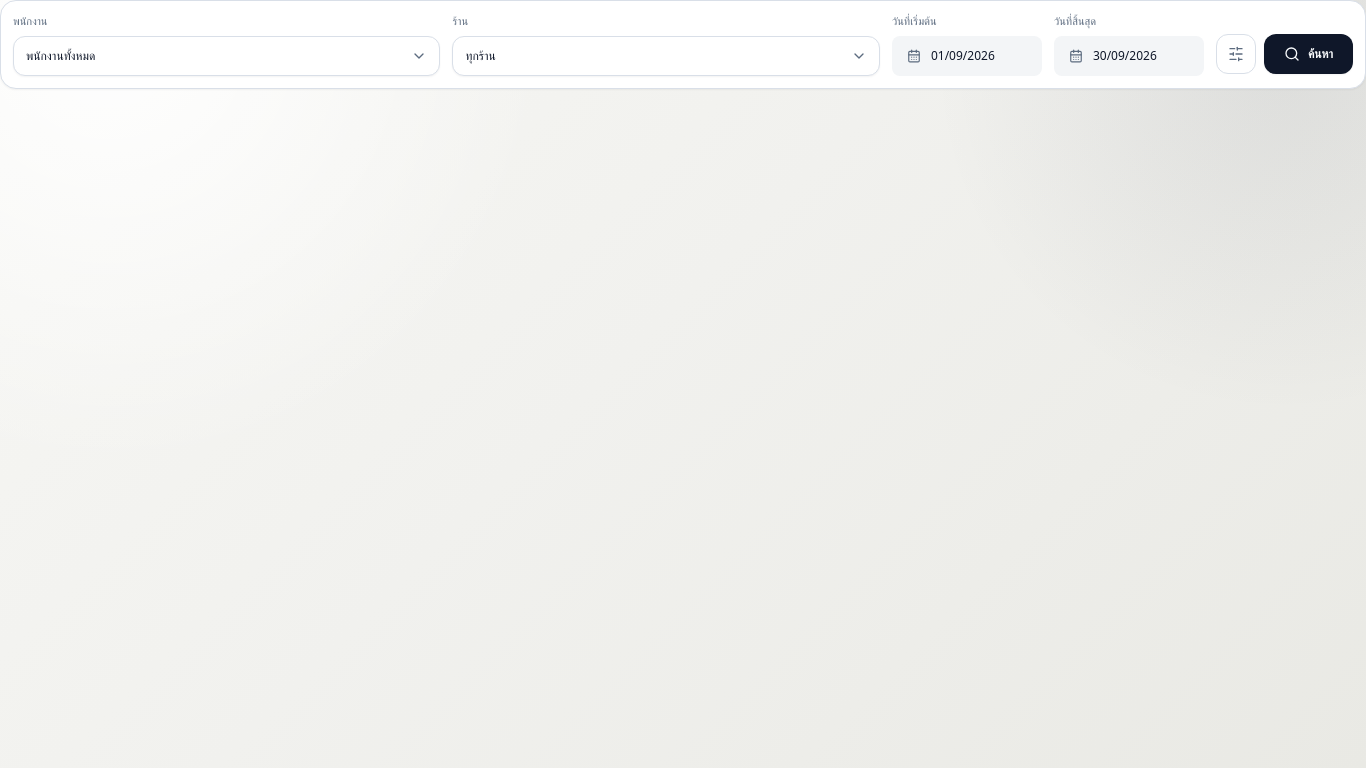
KpiFilterBar advanced document search › blocks the search while an upload date is invalid
The width and height of the screenshot is (1366, 768).
Click the button named "ค้นหาเพิ่มเติม".
click(1236, 54)  # box [1216,34,1256,74]
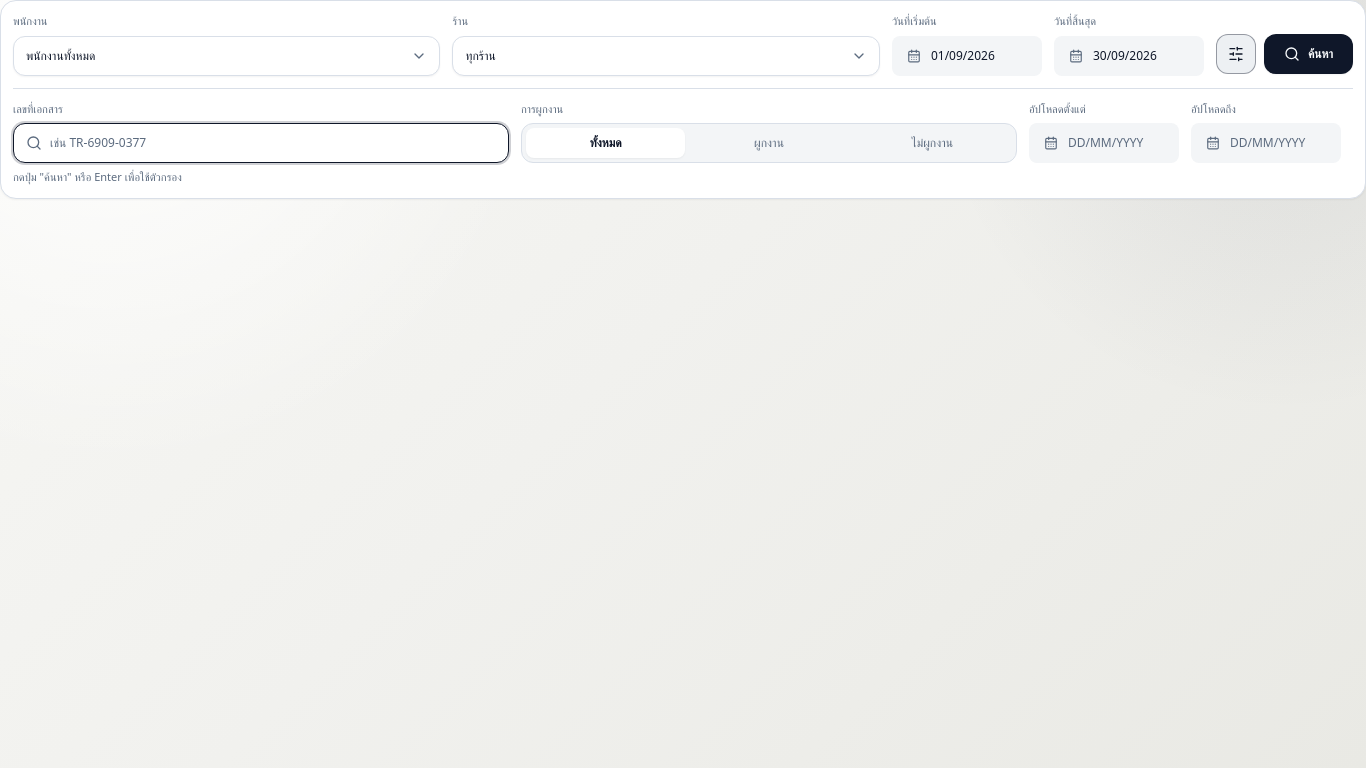
Type "99/99/2026" into the field named "อัปโหลดถึง".
click(1279, 143); type("99/99/2026")  # box [1230,134,1328,152]
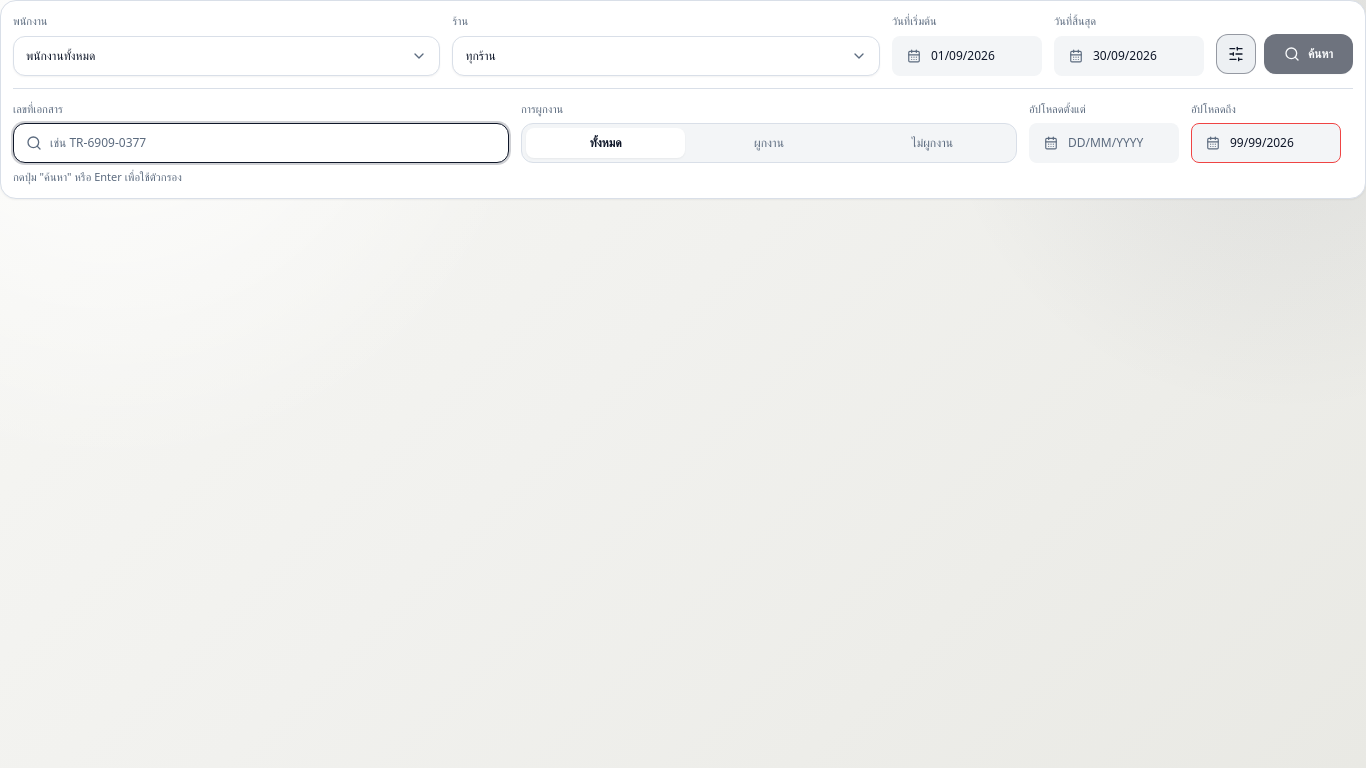
Now the button "ค้นหา" is disabled, box [1264,34,1353,74]
